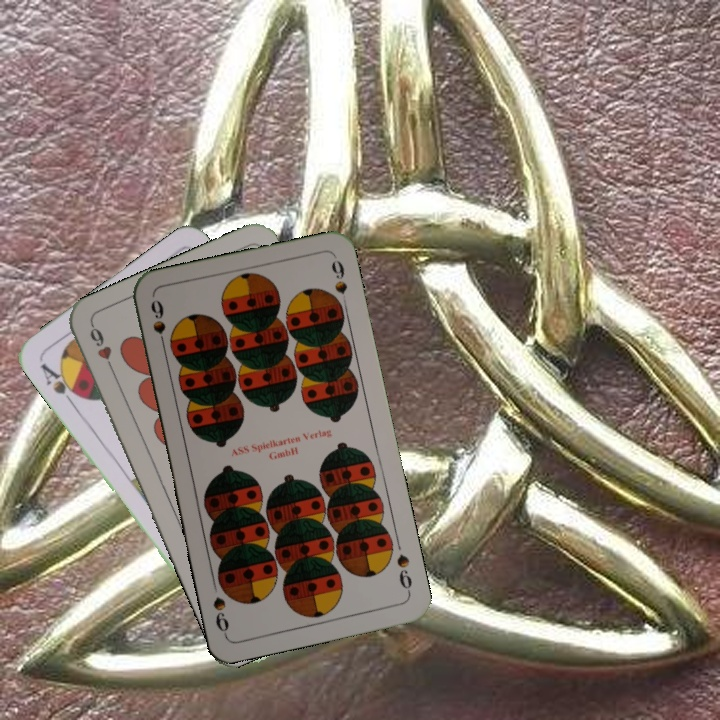H9: (85, 320, 118, 376)
S9: (146, 295, 169, 354), (392, 550, 415, 597)
SA: (36, 359, 85, 408)
